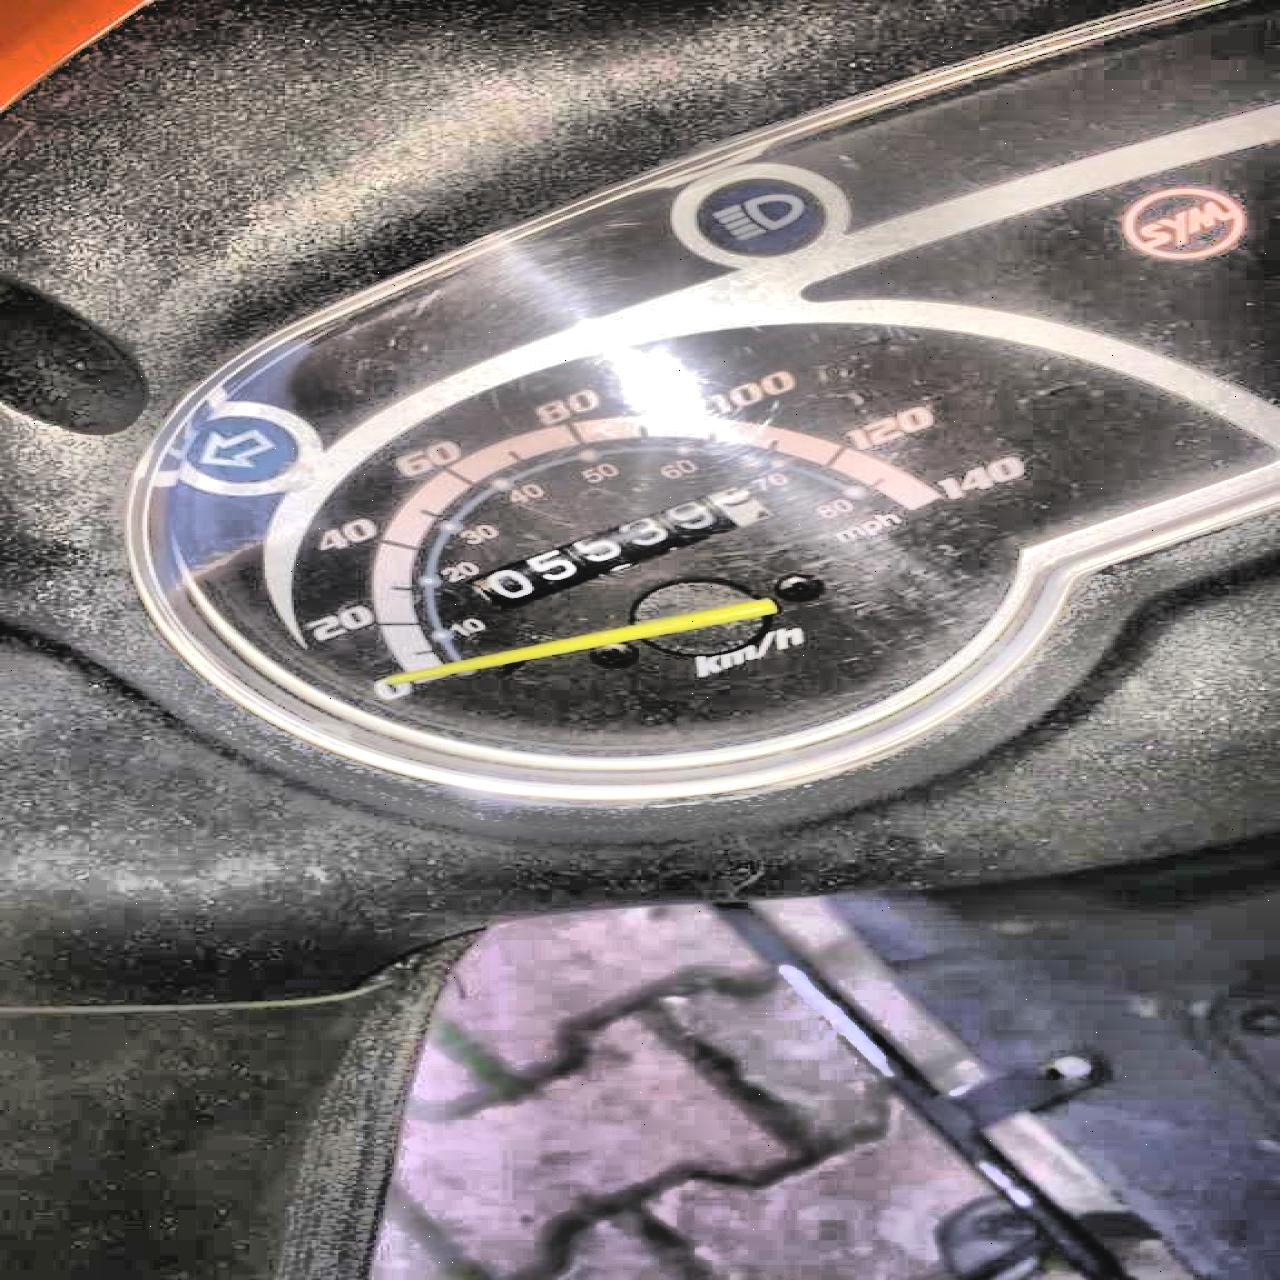0: (483, 567, 532, 598), (475, 523, 497, 538), (519, 483, 542, 497), (458, 560, 477, 576)
3: (614, 515, 666, 545), (708, 483, 748, 506), (461, 529, 478, 544)
4: (508, 488, 527, 504)
5: (523, 547, 574, 579), (572, 532, 619, 561)
9: (663, 499, 713, 530)
odometer: (458, 479, 779, 612)
